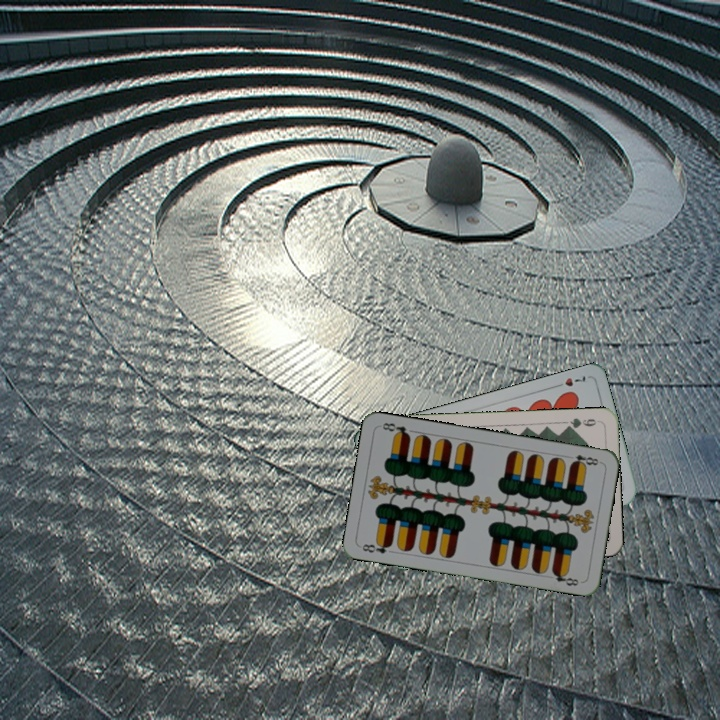E8: (358, 537, 395, 556), (567, 450, 603, 469)
G9: (562, 414, 602, 432)
H7: (550, 371, 588, 390)
